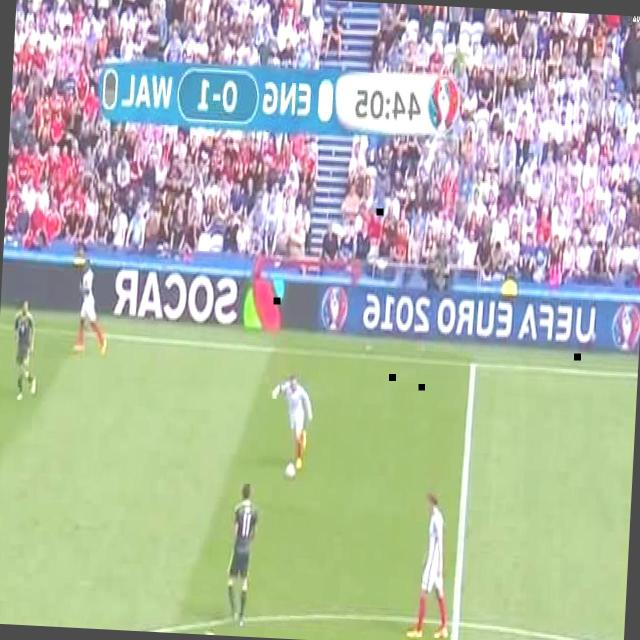ball: (284, 460, 296, 480)
player-white: (406, 492, 454, 640), (224, 483, 261, 627), (268, 373, 315, 472), (73, 260, 112, 356), (10, 301, 42, 401)
